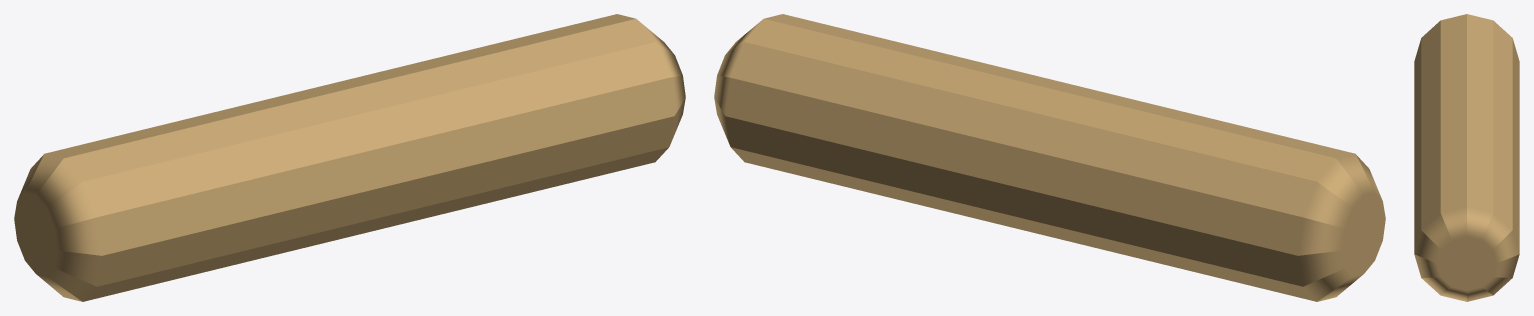
The model's file is PipeSlug.glb.
3 renders of one model, left to right at view 1: azimuth 30°, elevation 25°; view 2: azimuth 150°, elevation 25°; view 3: azimuth 270°, elevation 25°, orthographic. The views are drawn at different scales.
Visible parts, largest first — view 1: PipeSlug.001; view 2: PipeSlug.001; view 3: PipeSlug.001.
Boxes of the visible parts, left/top/right/bottom form: PipeSlug.001: left=14, top=14, right=685, bottom=301; PipeSlug.001: left=714, top=14, right=1385, bottom=301; PipeSlug.001: left=1414, top=14, right=1519, bottom=301.
Bounding box in the file's own units: 0.9 × 0.19 × 0.19.
